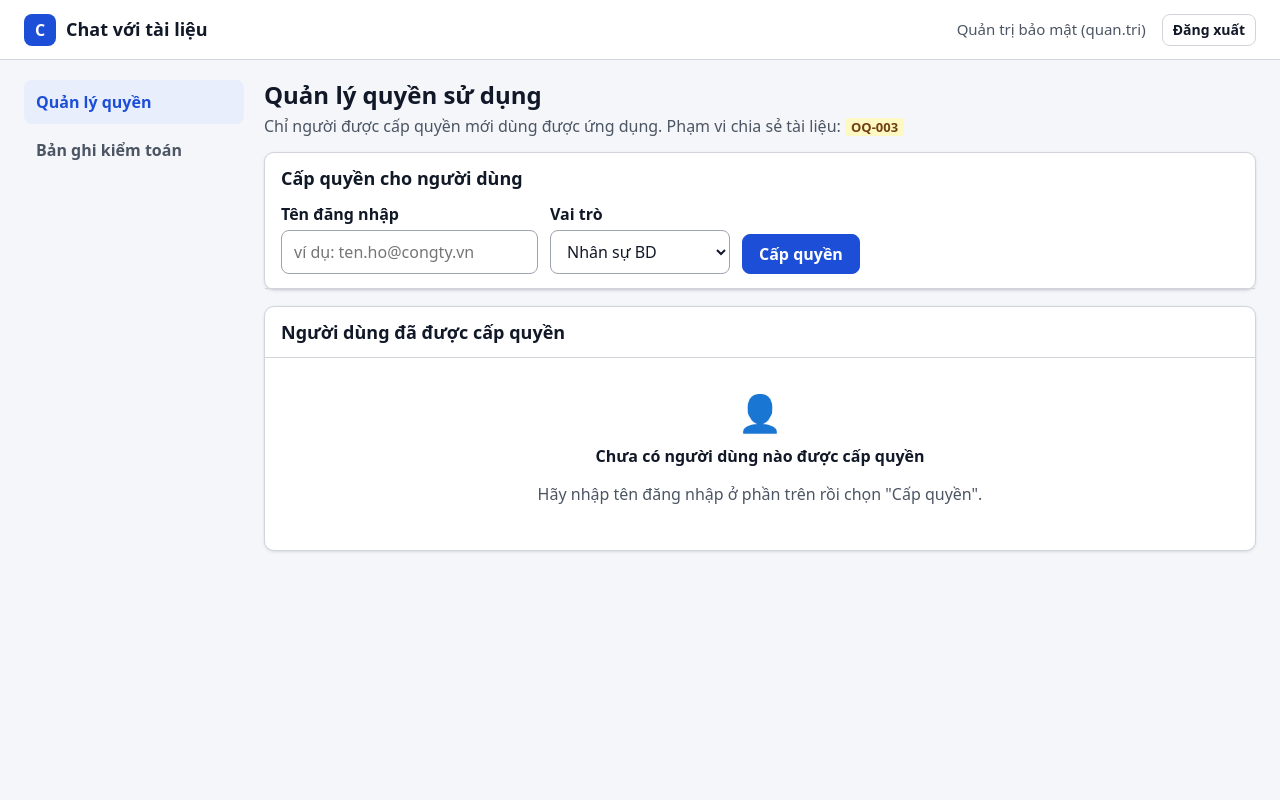
Test: S-05 Quản lý quyền › bỏ trống tên đăng nhập: báo lỗi tại trường, không gọi API
Click the button "Cấp quyền" at [801, 254], box [742,234,860,274]
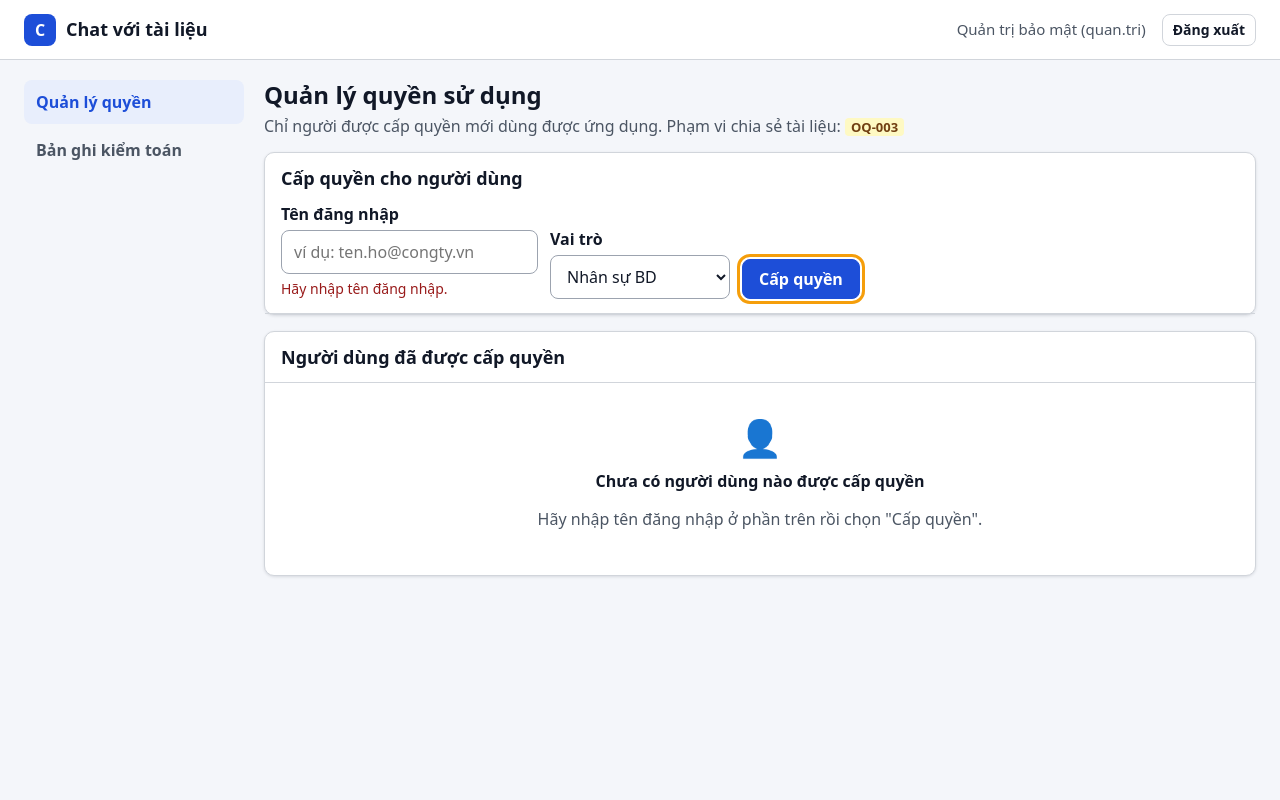
Check: the message reads "Hãy nhập tên đăng nhập.", box [281,278,448,298]
